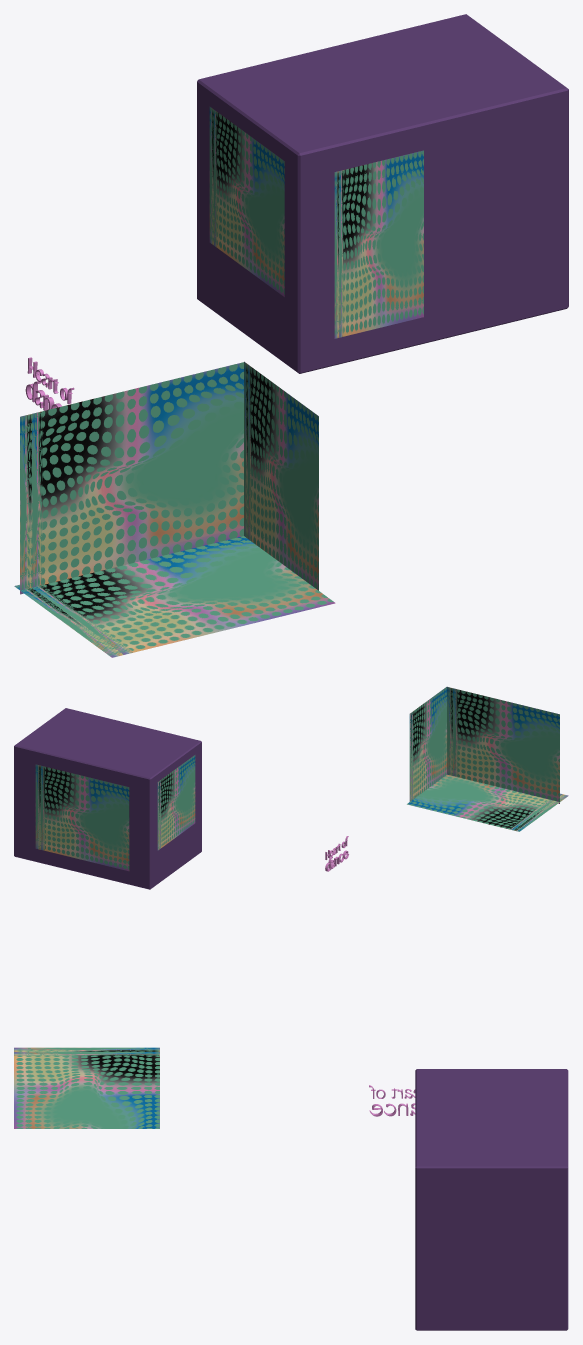
Rendered from heartofdance.glb.
3 renders of one model, top to bottom at view 1: azimuth 30°, elevation 25°; view 2: azimuth 150°, elevation 25°; view 3: azimuth 270°, elevation 25°, orthographic. The views are drawn at different scales.
Bounding box in the file's own units: 29.58 × 8.58 × 26.27.
3 materials, 1 textured.
